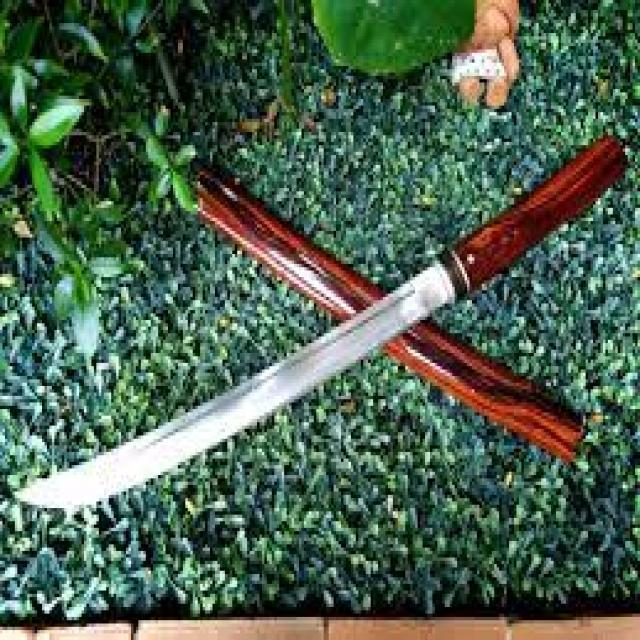long sword: (10, 129, 627, 516)
